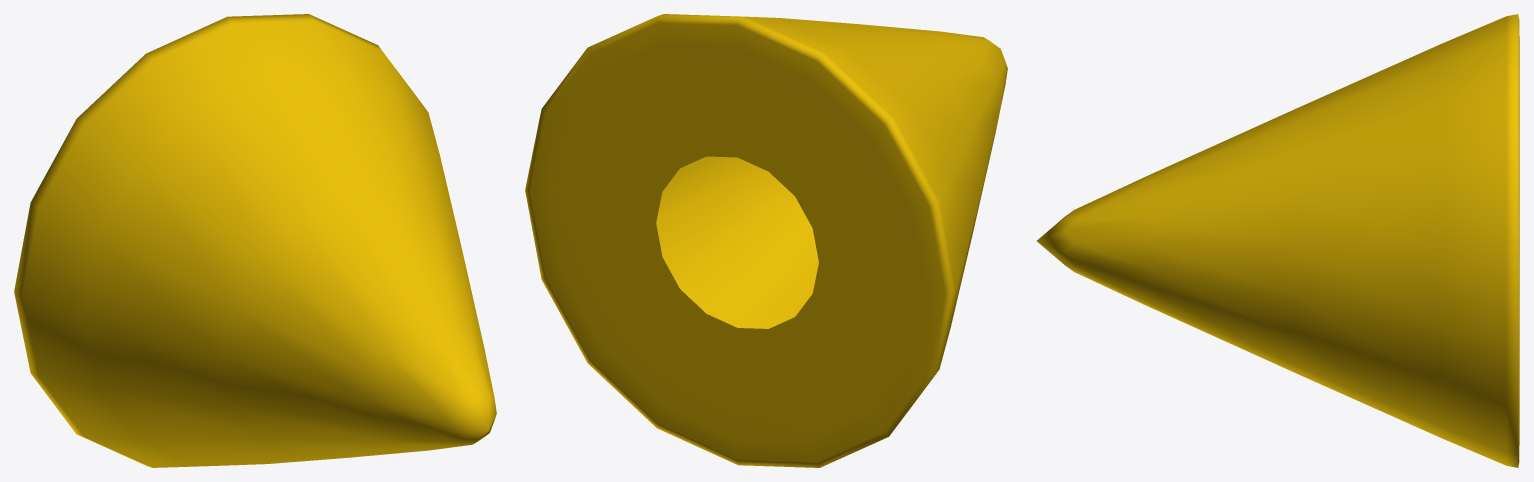
Rendered from LeftCone.fbx.
The picture shows the model from 3 angles, left to right: view 1: azimuth 30°, elevation 25°; view 2: azimuth 150°, elevation 25°; view 3: azimuth 270°, elevation 25°; orthographic projection. The views are drawn at different scales.
Visible parts, largest first — view 1: Cone_left; view 2: Cone_left; view 3: Cone_left.
Boxes of the visible parts, x1,y1,x2,y2 form: Cone_left: [14, 14, 496, 467]; Cone_left: [525, 14, 1007, 467]; Cone_left: [1037, 14, 1519, 467].
Size of the model in its own units: 0.0178 by 0.0178 by 0.0189.
